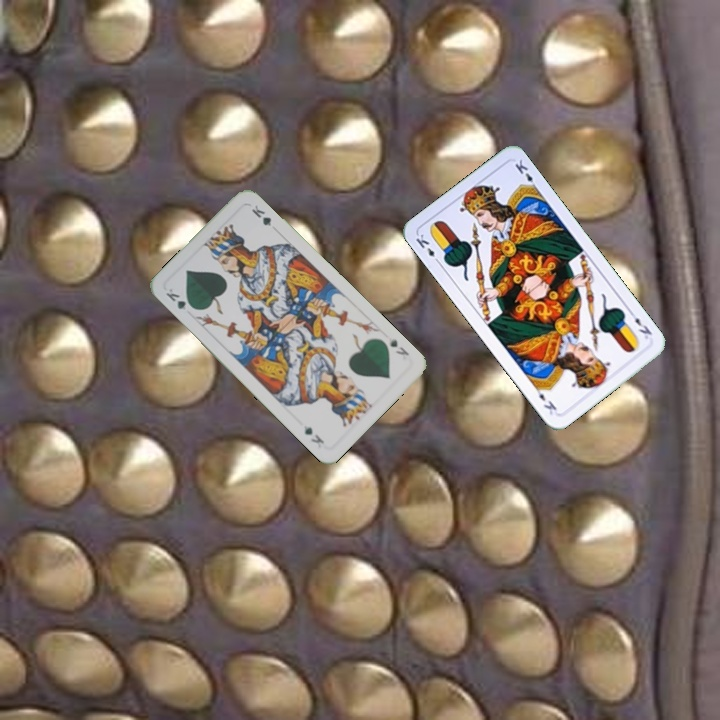EK: (411, 230, 443, 267), (625, 307, 655, 342)
GK: (161, 284, 197, 313), (386, 334, 412, 358)
